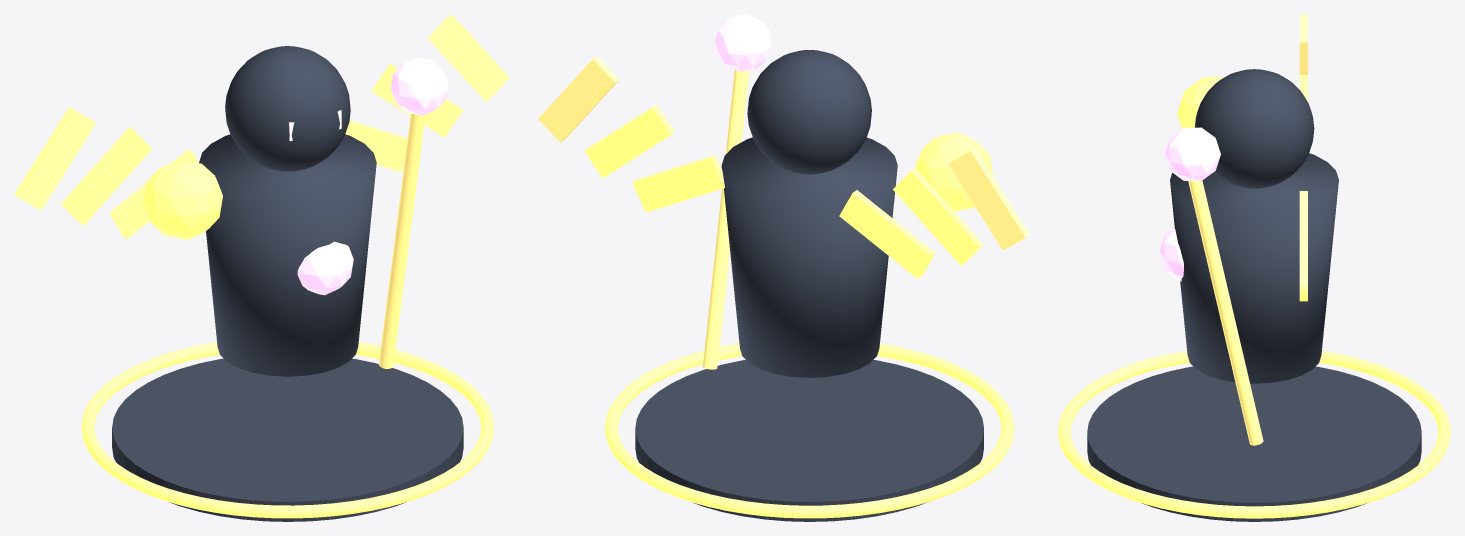
The model's file is vigil.glb.
3 views of the same model, side by side, from view 1: azimuth 30°, elevation 25°; view 2: azimuth 150°, elevation 25°; view 3: azimuth 270°, elevation 25° (orthographic). The views are drawn at different scales.
Visible parts, largest first — view 1: AbilityPedestal, AgentTorso, AgentHead, AbilityAuraRing, Pet_VIGIL, SignatureWeapon, Wing_-1_2, Wing_-1_1, Wing_1_2, WeaponApex, AgentCore, Wing_1_0 (+2 smaller); view 2: AbilityPedestal, AgentTorso, AgentHead, AbilityAuraRing, SignatureWeapon, Wing_-1_0, Wing_-1_1, Wing_-1_2, Wing_1_0, Wing_1_2, Wing_1_1, Pet_VIGIL (+1 smaller); view 3: AbilityPedestal, AgentTorso, AgentHead, AbilityAuraRing, SignatureWeapon, WeaponApex, Pet_VIGIL, Wing_1_2, AgentCore, Wing_-1_2.
Part boxes in pixels (x1,y1,x2,y2): AbilityPedestal: (112,358,463,521); AgentTorso: (199,134,376,376); AgentHead: (225,46,350,171); AbilityAuraRing: (81,342,493,518); Pet_VIGIL: (143,159,222,239); SignatureWeapon: (378,113,425,368); Wing_-1_2: (14,107,96,210); Wing_-1_1: (61,127,151,225); Wing_1_2: (428,14,509,101); WeaponApex: (390,57,448,115); AgentCore: (297,241,353,295); Wing_1_0: (345,120,407,171); AbilityPedestal: (635,360,983,521); AgentTorso: (721,137,897,377); AgentHead: (747,50,871,174); AbilityAuraRing: (605,343,1014,518); SignatureWeapon: (702,70,749,369); Wing_-1_0: (839,190,935,278); Wing_-1_1: (893,168,983,265); Wing_-1_2: (948,148,1029,250); Wing_1_0: (632,155,724,212); Wing_1_2: (538,56,619,142); Wing_1_1: (584,105,674,178); Pet_VIGIL: (915,132,993,211); AbilityPedestal: (1087,366,1421,521); AgentTorso: (1170,153,1338,383); AgentHead: (1194,69,1314,188); AbilityAuraRing: (1058,351,1450,518); SignatureWeapon: (1188,180,1263,445); WeaponApex: (1164,127,1220,180); Pet_VIGIL: (1177,77,1224,128); Wing_1_2: (1299,191,1307,293); AgentCore: (1159,227,1183,281); Wing_-1_2: (1299,14,1307,74).
Bounding box in the file's own units: 3.07 × 2.36 × 2.23.
